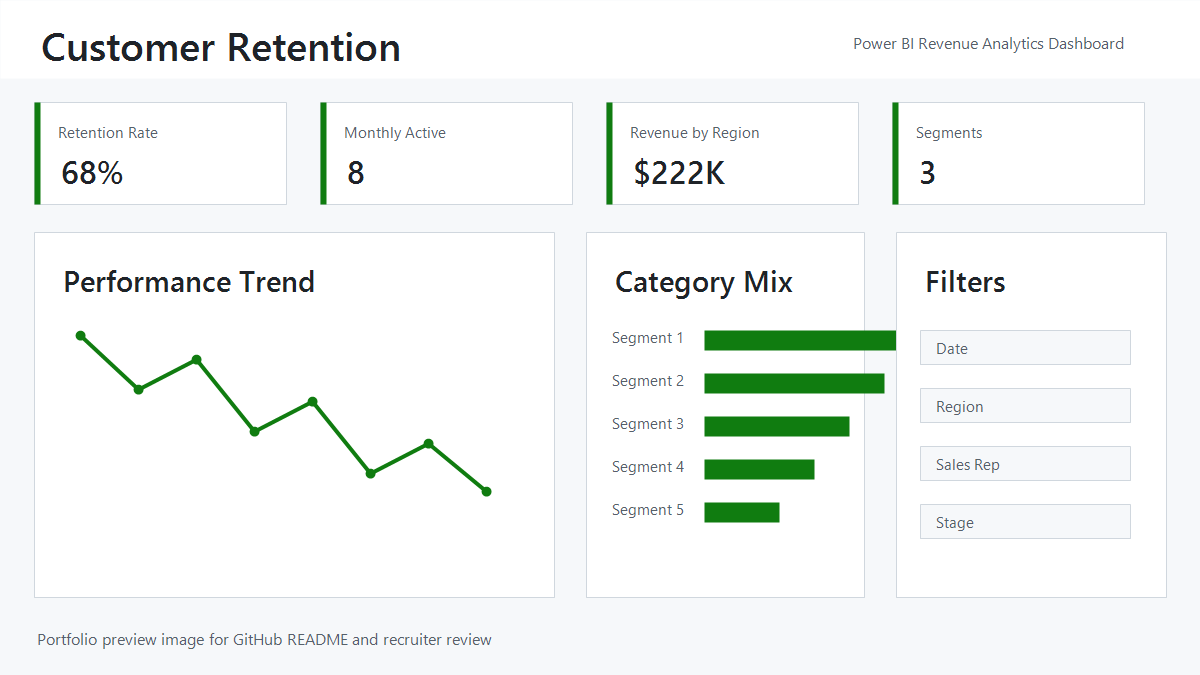

Layout of this report page (visuals, bound fields, positions):
{"tool":"powerbi","page":{"name":"Customer Retention","canvas":[1280,720],"ordinal":1},"visuals":[{"type":"cardVisual","fields":{"Data":["Revenue_measures.Retention Rate"]},"box":[1000,505.6,280,214.4],"z":0},{"type":"lineChart","title":"Customer Retention Trend","fields":{"Category":["public vw_customer_retention.order_month.Variation.Date Hierarchy.Year","public vw_customer_retention.order_month.Variation.Date Hierarchy.Quarter","public vw_customer_retention.order_month.Variation.Date Hierarchy.Month","public vw_customer_retention.order_month.Variation.Date Hierarchy.Day"],"Y":["Sum(public vw_customer_retention.retention_rate)"]},"box":[803.3,0,476.7,280],"z":1},{"type":"cardVisual","fields":{"Data":["Revenue_measures.Monthly Active Customers"]},"box":[735.6,528.9,264.4,177.8],"z":2},{"type":"clusteredColumnChart","title":"Revenue By Region","fields":{"Category":["public customers.region"],"Y":["Revenue_measures.Total Revenue"]},"box":[11.1,528.9,651.1,150],"z":3},{"type":"donutChart","title":"Customer Segment","fields":{"Category":["public customers.segment"],"Y":["Revenue_measures.Active Customers"]},"box":[757.8,290,508.9,238.9],"z":4},{"type":"slicer","fields":{"Values":["public customers.region","public customers.segment","public orders.order_date"]},"box":[11.1,11.1,225.6,421.1],"z":5}]}

Visuals, with their boxes in screenshot pixels (x1, y1, x2, y2), scaled from the page's 1280x720 canvas onto the 1200x675 screenshot:
cardVisual - Revenue_measures.Retention Rate: 938:474:1199:674
"Customer Retention Trend" lineChart: 753:0:1199:262
cardVisual - Revenue_measures.Monthly Active Customers: 690:496:938:663
"Revenue By Region" clusteredColumnChart: 10:496:621:636
"Customer Segment" donutChart: 710:272:1188:496
slicer - public customers.region x public customers.segment: 10:10:222:405
